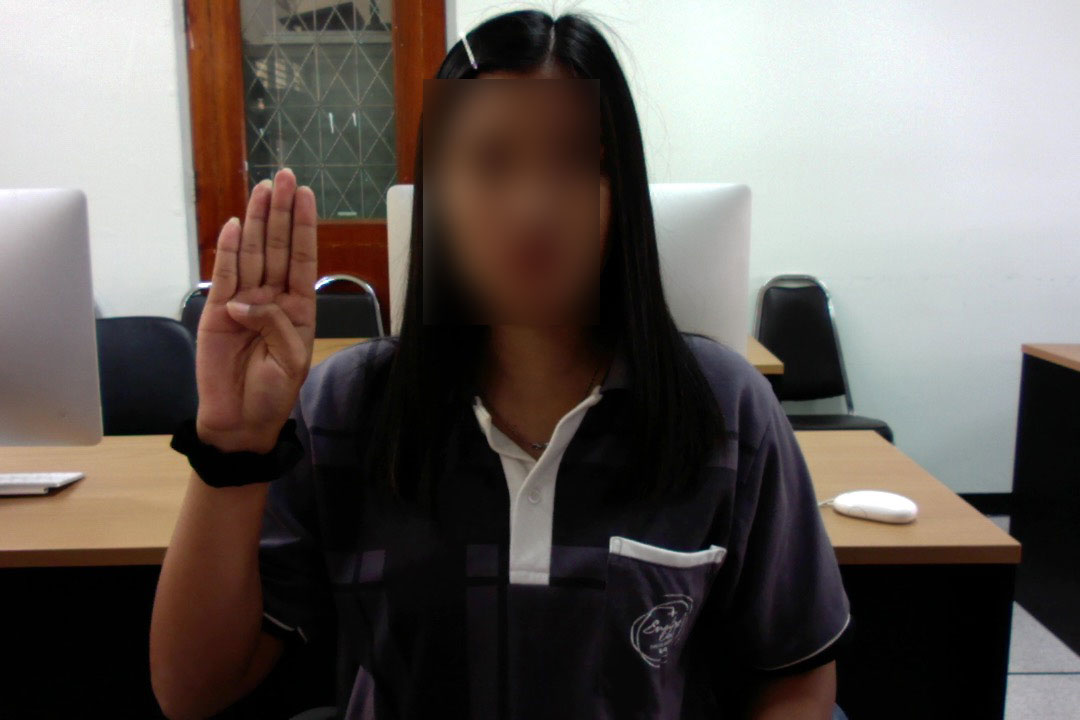bor: (180, 157, 325, 440)
